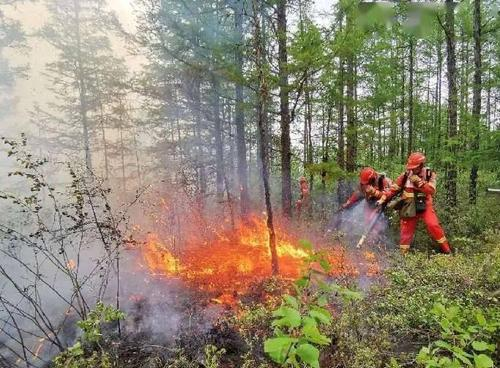fire: (237, 213, 308, 261), (141, 242, 181, 278)
